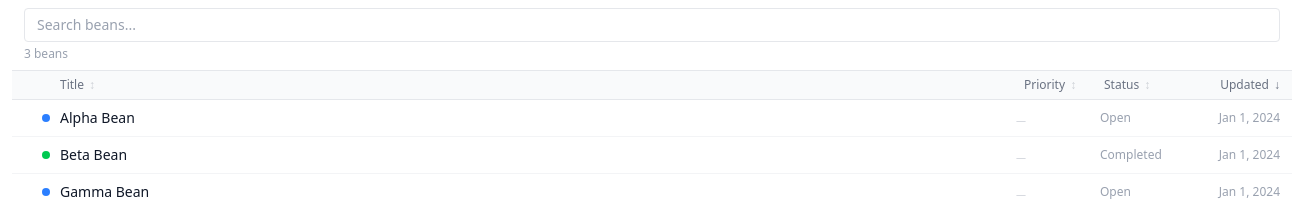
BeanList › search filters beans by title
In the field with placeholder "Search beans...": x=652, y=25 top-left (24, 8), bottom-right (1280, 42), type "Alpha"
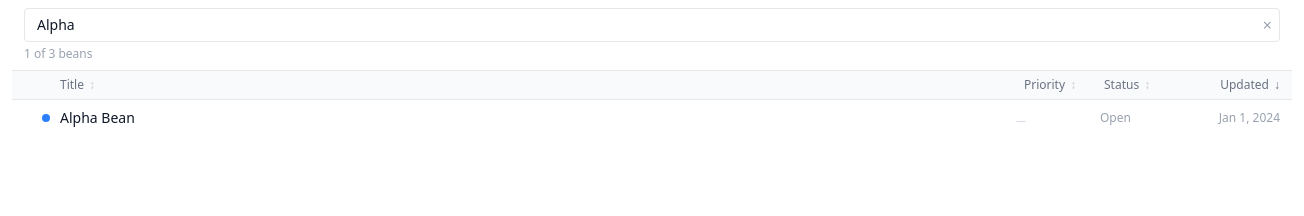
Check: the text "Alpha Bean" is shown, box top-left (60, 108), bottom-right (135, 127)
Check: the button "Beta Bean" is gone
Check: the button "Gamma Bean" is gone
